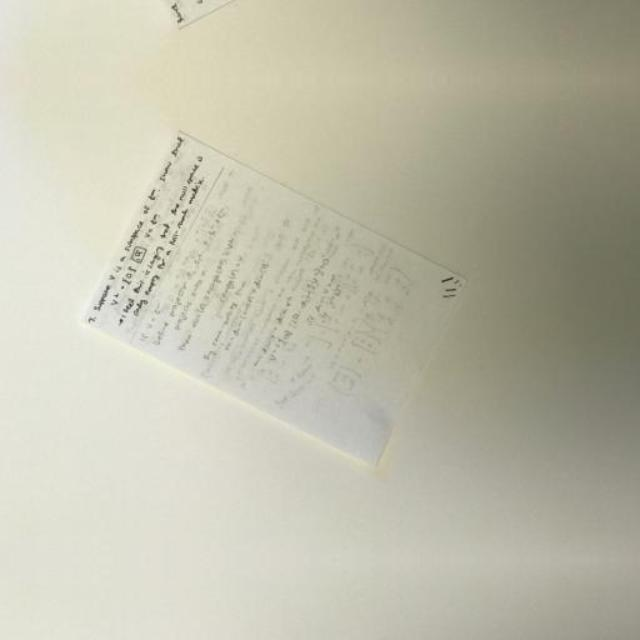paper: (72, 121, 448, 493), (72, 0, 447, 39), (72, 627, 447, 640)
